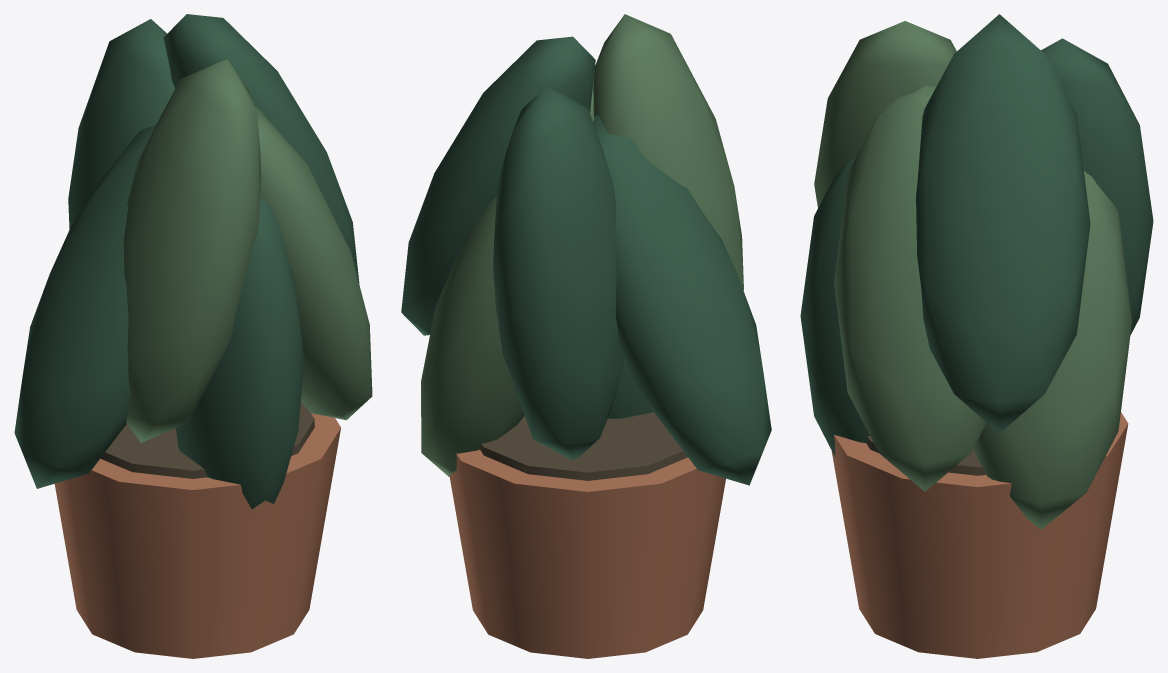
File: potted-plant.glb
3 renders of one model, left to right at view 1: azimuth 30°, elevation 25°; view 2: azimuth 150°, elevation 25°; view 3: azimuth 270°, elevation 25°, orthographic. The views are drawn at different scales.
Bounding box in the file's own units: 0.7483 × 1.22 × 0.6557.
